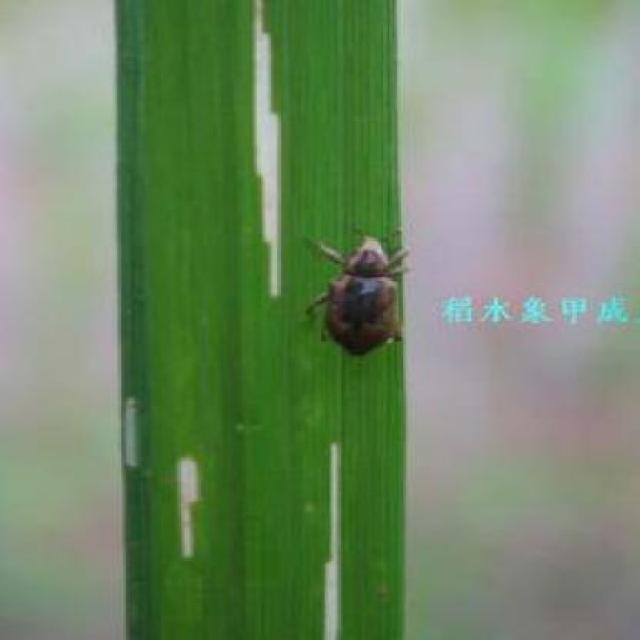rice-bug: (307, 232, 410, 360)
